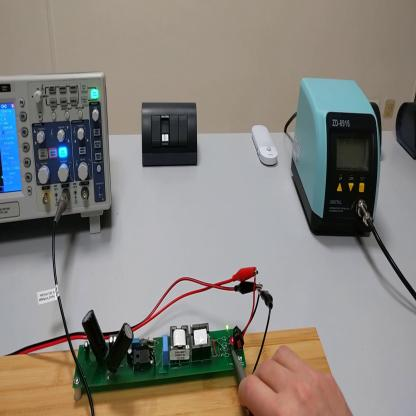hand: (239, 346, 353, 416)
high voltage board: (69, 266, 263, 387)
oscilloscope: (2, 74, 114, 244)
oscilloscope probe tip: (229, 345, 255, 415)
socket: (395, 104, 416, 159), (371, 102, 384, 173)
welder station: (293, 79, 382, 242)
working area: (3, 331, 355, 416)
